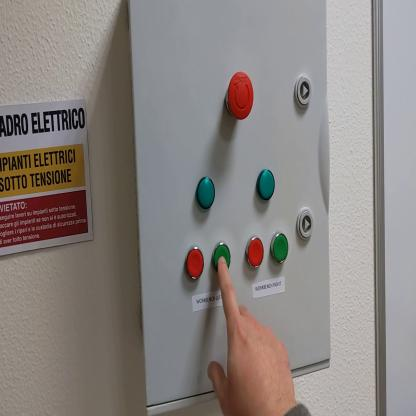hand: (208, 253, 297, 415)
left green button: (213, 242, 233, 272)
left red button: (185, 248, 206, 283)
right green button: (273, 231, 291, 265)
right red button: (246, 235, 267, 272)
